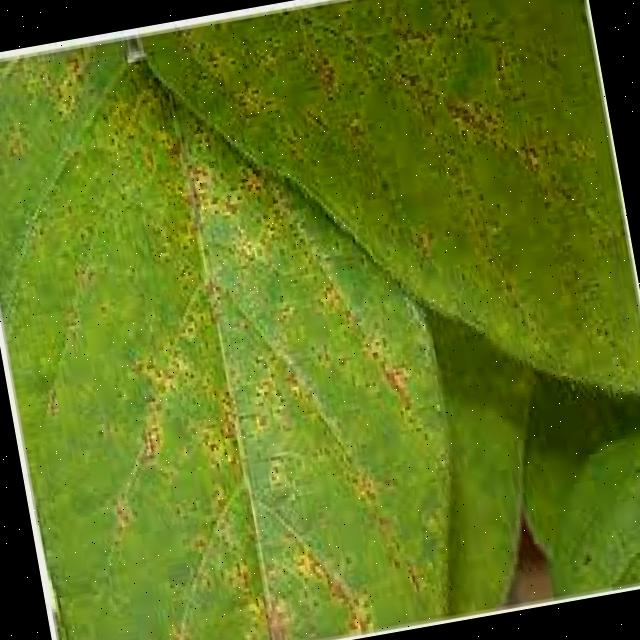leaf spot: (0, 2, 488, 640)
